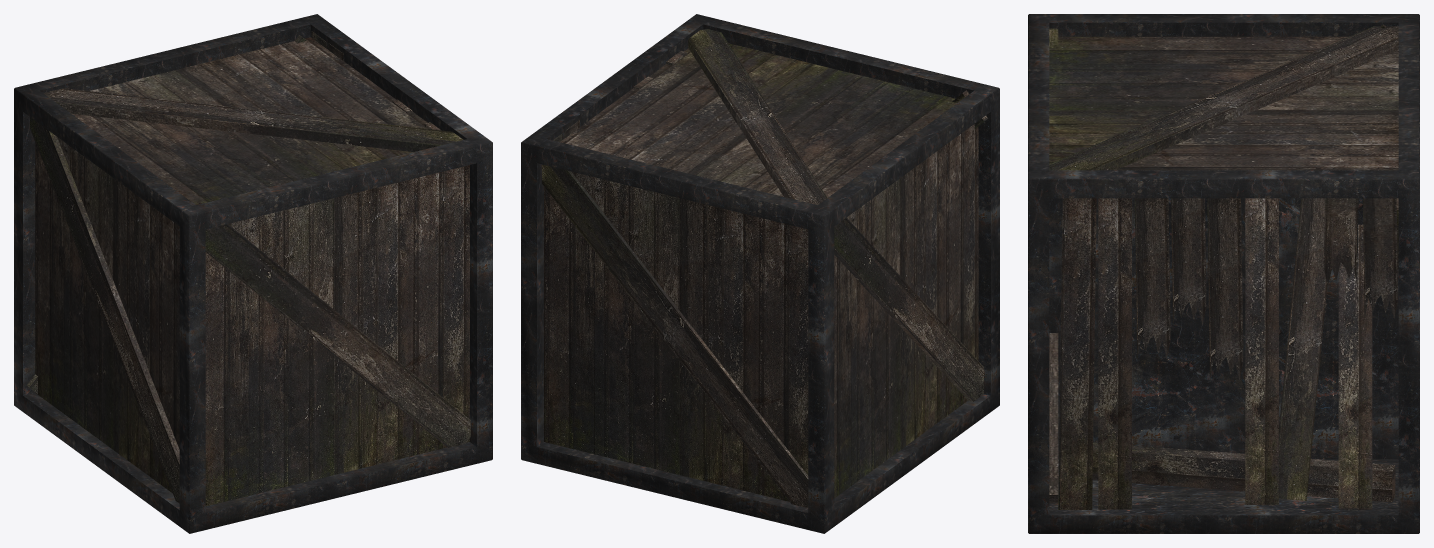
File: WoodenBox_2.fbx
The picture shows the model from 3 angles, left to right: view 1: azimuth 30°, elevation 25°; view 2: azimuth 150°, elevation 25°; view 3: azimuth 270°, elevation 25°; orthographic projection. The views are drawn at different scales.
Parts seen in each view (by area): view 1: WoodenBox_2; view 2: WoodenBox_2; view 3: WoodenBox_2.
Boxes of the visible parts, left/top/right/bottom form: WoodenBox_2: left=14, top=14, right=492, bottom=533; WoodenBox_2: left=521, top=14, right=999, bottom=533; WoodenBox_2: left=1028, top=14, right=1419, bottom=533.
Bounding box in the file's own units: 103 × 100 × 100.
